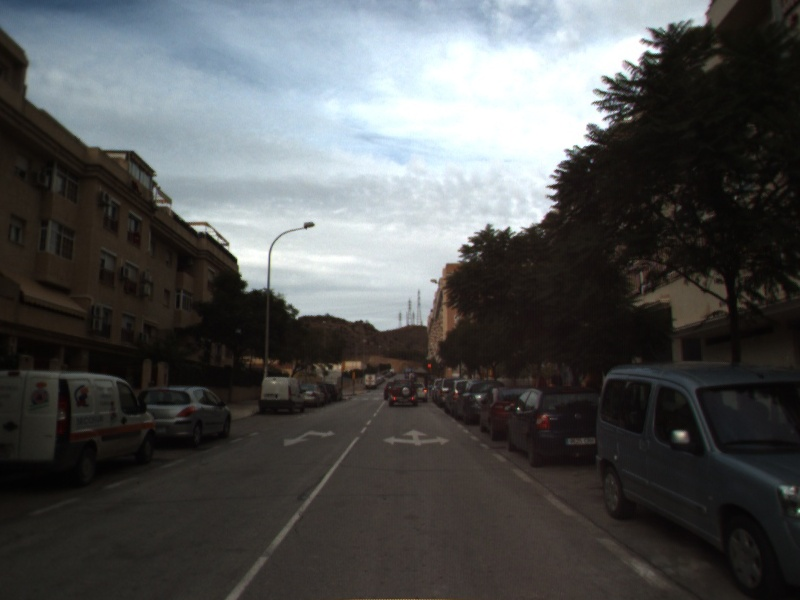STRAIGHT_LEFT_RIGHT: (381, 427, 453, 447)
